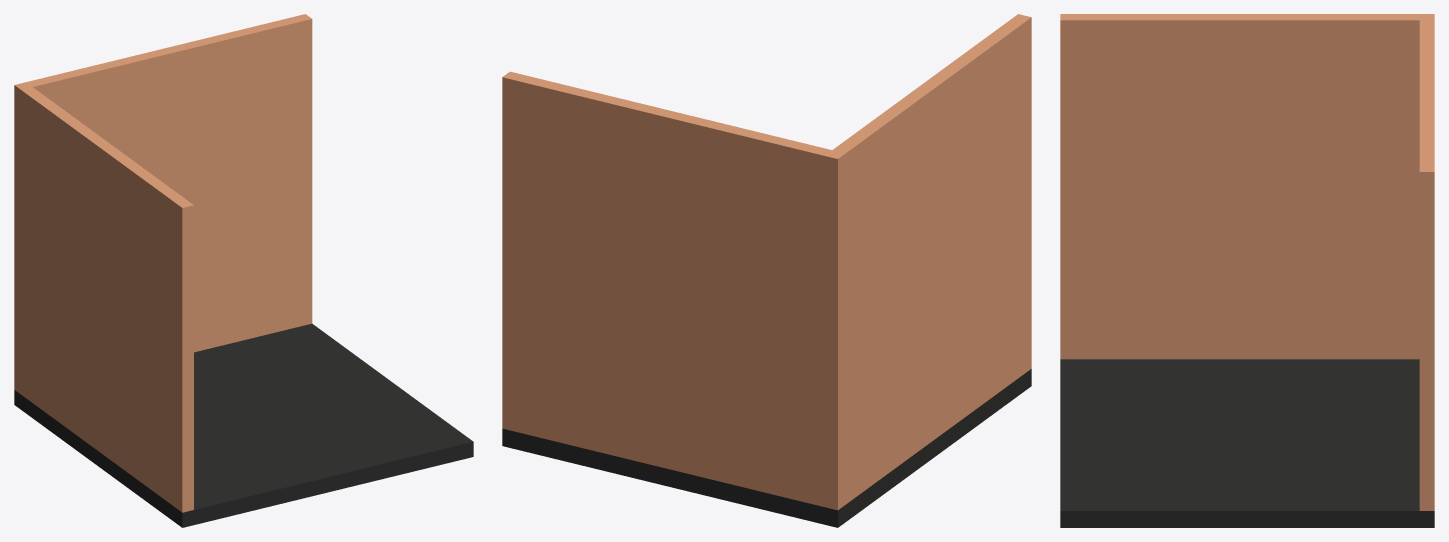
Rendered from BedroomBase.fbx.
The picture shows the model from 3 angles, left to right: view 1: azimuth 30°, elevation 25°; view 2: azimuth 150°, elevation 25°; view 3: azimuth 270°, elevation 25°; orthographic projection. The views are drawn at different scales.
Parts seen in each view (by area): view 1: Wall, Floor; view 2: Wall, Floor; view 3: Wall, Floor.
Part boxes in pixels (x1,y1,x2,y2): Wall: (14, 14, 312, 512); Floor: (14, 323, 473, 527); Wall: (502, 14, 1031, 510); Floor: (502, 369, 1031, 527); Wall: (1060, 14, 1434, 510); Floor: (1060, 359, 1434, 527).
Size of the model in its own units: 4 by 4 by 4.2.
